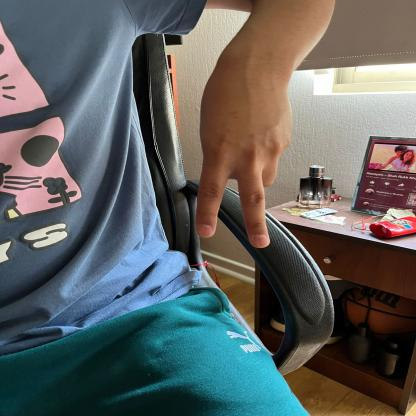N: (194, 68, 295, 249)
